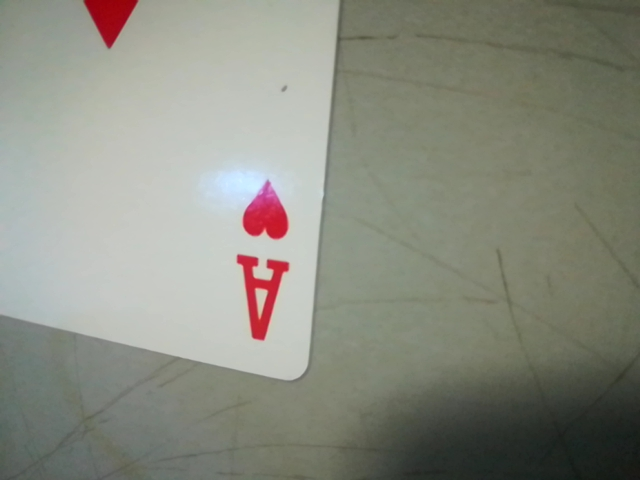hx a: (220, 172, 304, 357)
